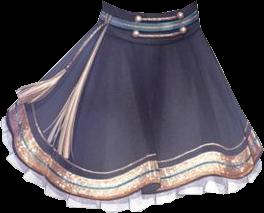Hemline: (0, 120, 262, 212), (5, 109, 263, 200)
Waistline: (95, 23, 201, 47), (102, 0, 198, 15)
